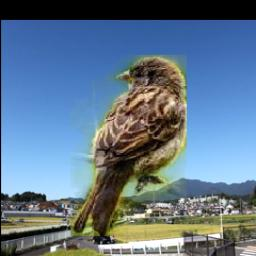Sparrow: (71, 55, 188, 236)
